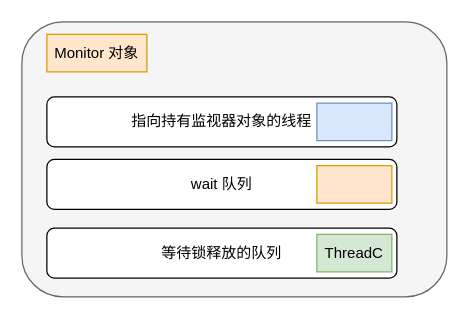
Image size: 469x319. Some labels were removed from this diagram. The shapes that lost their labels are listed below. From the top down, each one's box as (x1, y1, x2, y2) in pixels, then its label:
(316, 102, 392, 141): ThreadB
(316, 164, 392, 203): ThreadA
